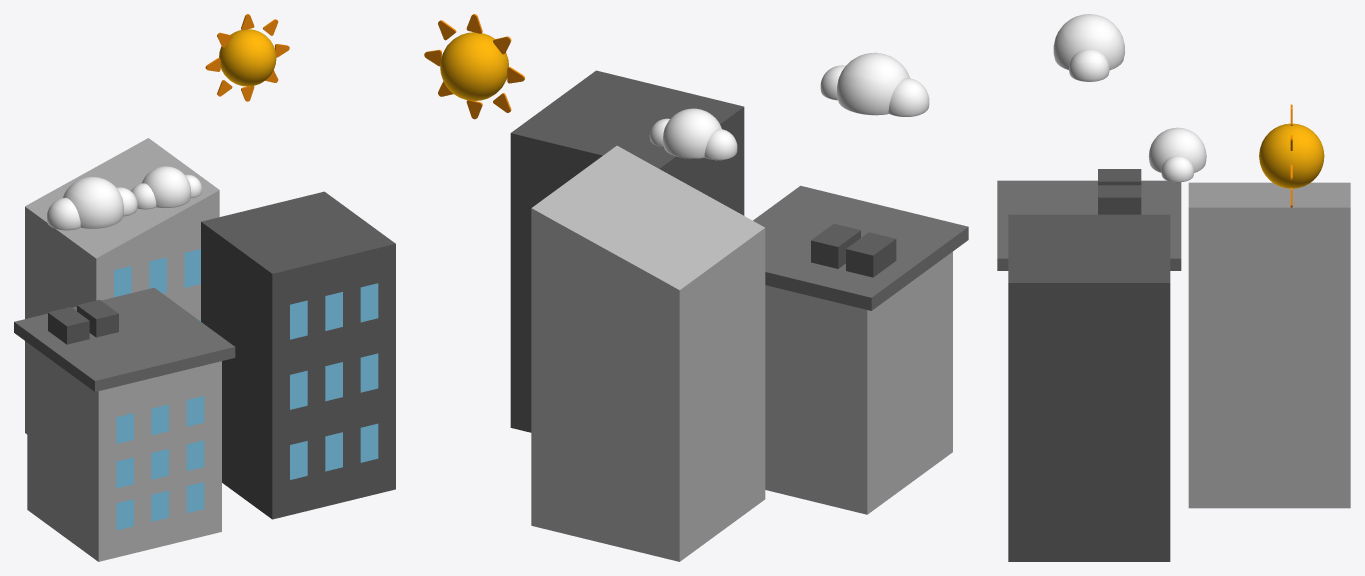
File: cityscape.gltf
The picture shows the model from 3 angles, left to right: view 1: azimuth 30°, elevation 25°; view 2: azimuth 150°, elevation 25°; view 3: azimuth 270°, elevation 25°; orthographic projection. The views are drawn at different scales.
Visible parts, largest first — view 1: Cube.521; view 2: Cube.521; view 3: Cube.521.
Boxes of the visible parts, x1=… form: Cube.521: x1=14, y1=14, x2=395, y2=561; Cube.521: x1=424, y1=14, x2=968, y2=561; Cube.521: x1=997, y1=14, x2=1350, y2=561.
Bounding box in the file's own units: 2.13 × 2.41 × 1.74.
1 material, 1 textured.
